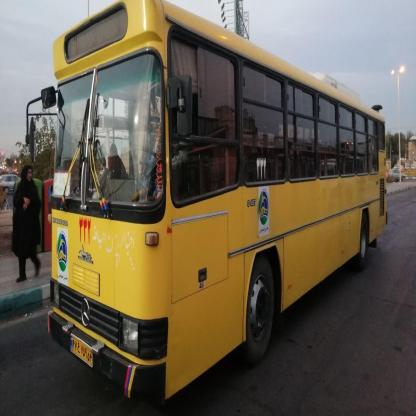Bus: (40, 0, 395, 401)
